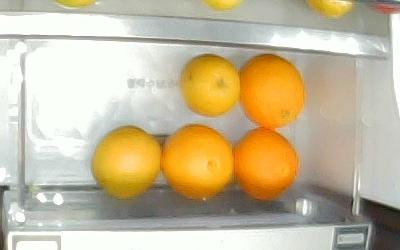orange: (160, 124, 233, 200), (90, 126, 160, 199), (232, 128, 299, 202), (238, 54, 304, 129), (181, 54, 240, 117)
